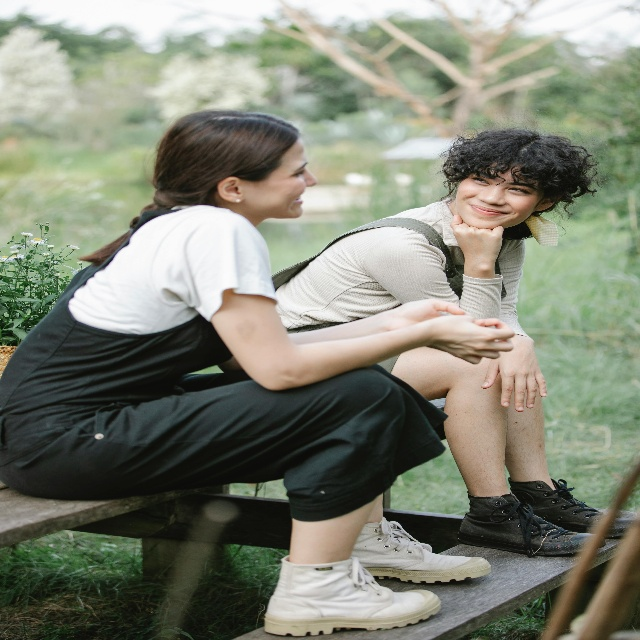Sin_guantes: (480, 332, 546, 413), (429, 314, 516, 364), (450, 214, 503, 269), (389, 299, 465, 330)
